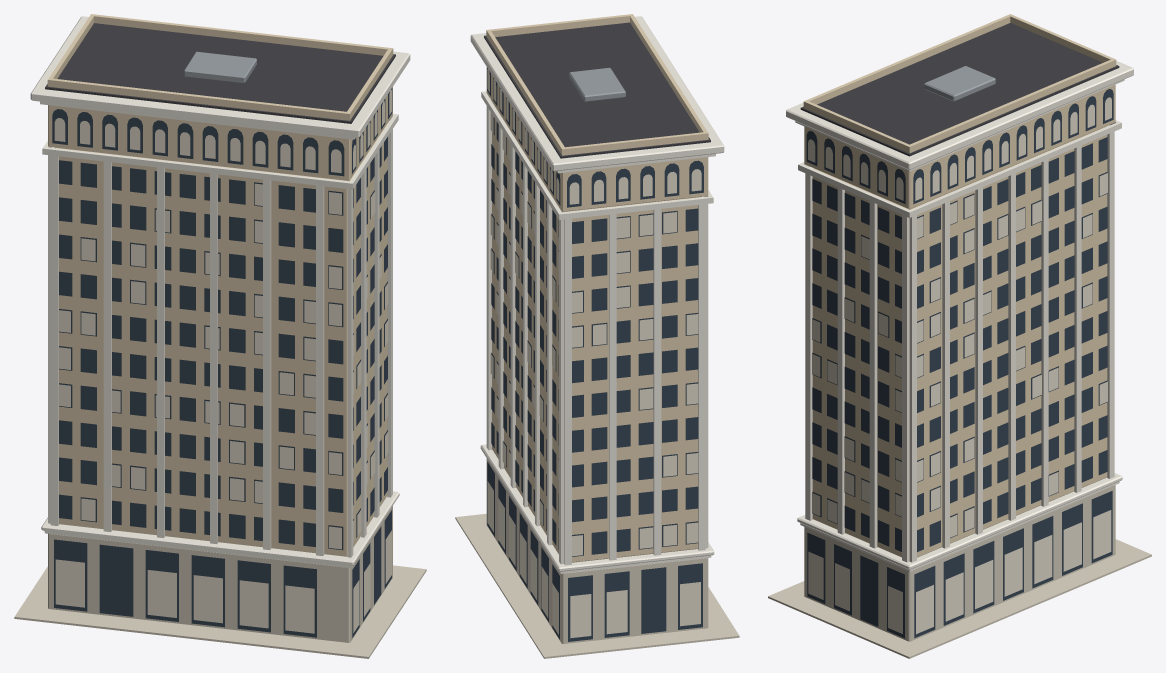
File: 605-market-street.glb
3 views of the same model, side by side, from view 1: azimuth 30°, elevation 25°; view 2: azimuth 150°, elevation 25°; view 3: azimuth 270°, elevation 25° (orthographic). The views are drawn at different scales.
Parts seen in each view (by area): view 1: 605-market-street_body, 605-market-street_night_glow; view 2: 605-market-street_body, 605-market-street_night_glow; view 3: 605-market-street_body, 605-market-street_night_glow.
Boxes of the visible parts, x1,y1,x2,y2 form: 605-market-street_body: [14, 14, 426, 658]; 605-market-street_night_glow: [54, 90, 391, 633]; 605-market-street_body: [455, 14, 739, 658]; 605-market-street_night_glow: [487, 69, 701, 638]; 605-market-street_body: [768, 14, 1151, 658]; 605-market-street_night_glow: [808, 97, 1111, 634].
Size of the model in its own units: 38.3 by 54.3 by 38.04.
